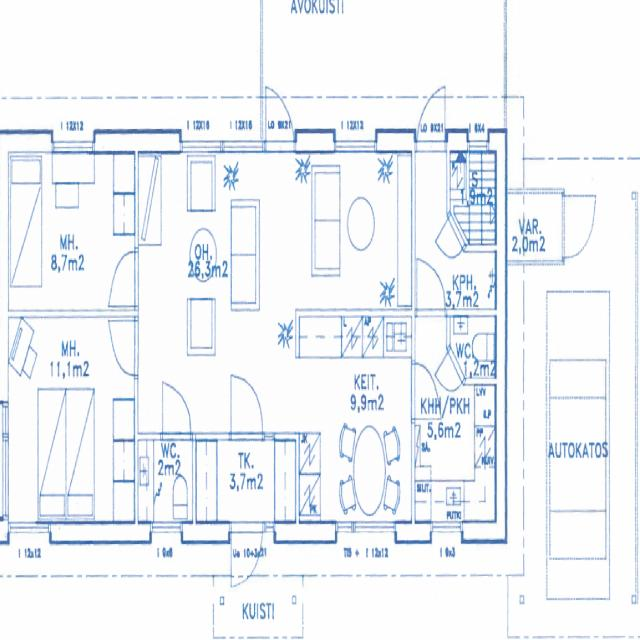door: (231, 520, 261, 603), (266, 74, 295, 152), (231, 370, 262, 439), (417, 78, 444, 152), (106, 319, 139, 376), (106, 250, 139, 306), (416, 252, 444, 317), (435, 346, 465, 406), (162, 376, 190, 439), (561, 198, 592, 254), (435, 215, 464, 272), (411, 364, 442, 417)
